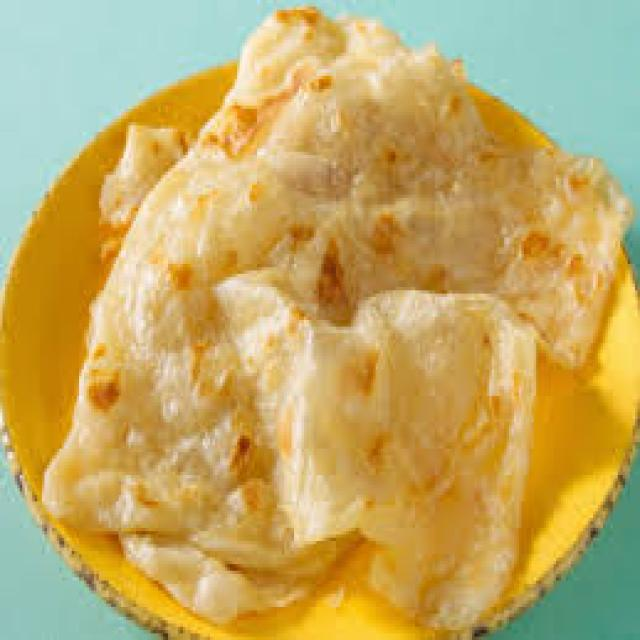ROTI: (43, 8, 627, 637), (99, 117, 178, 226)
